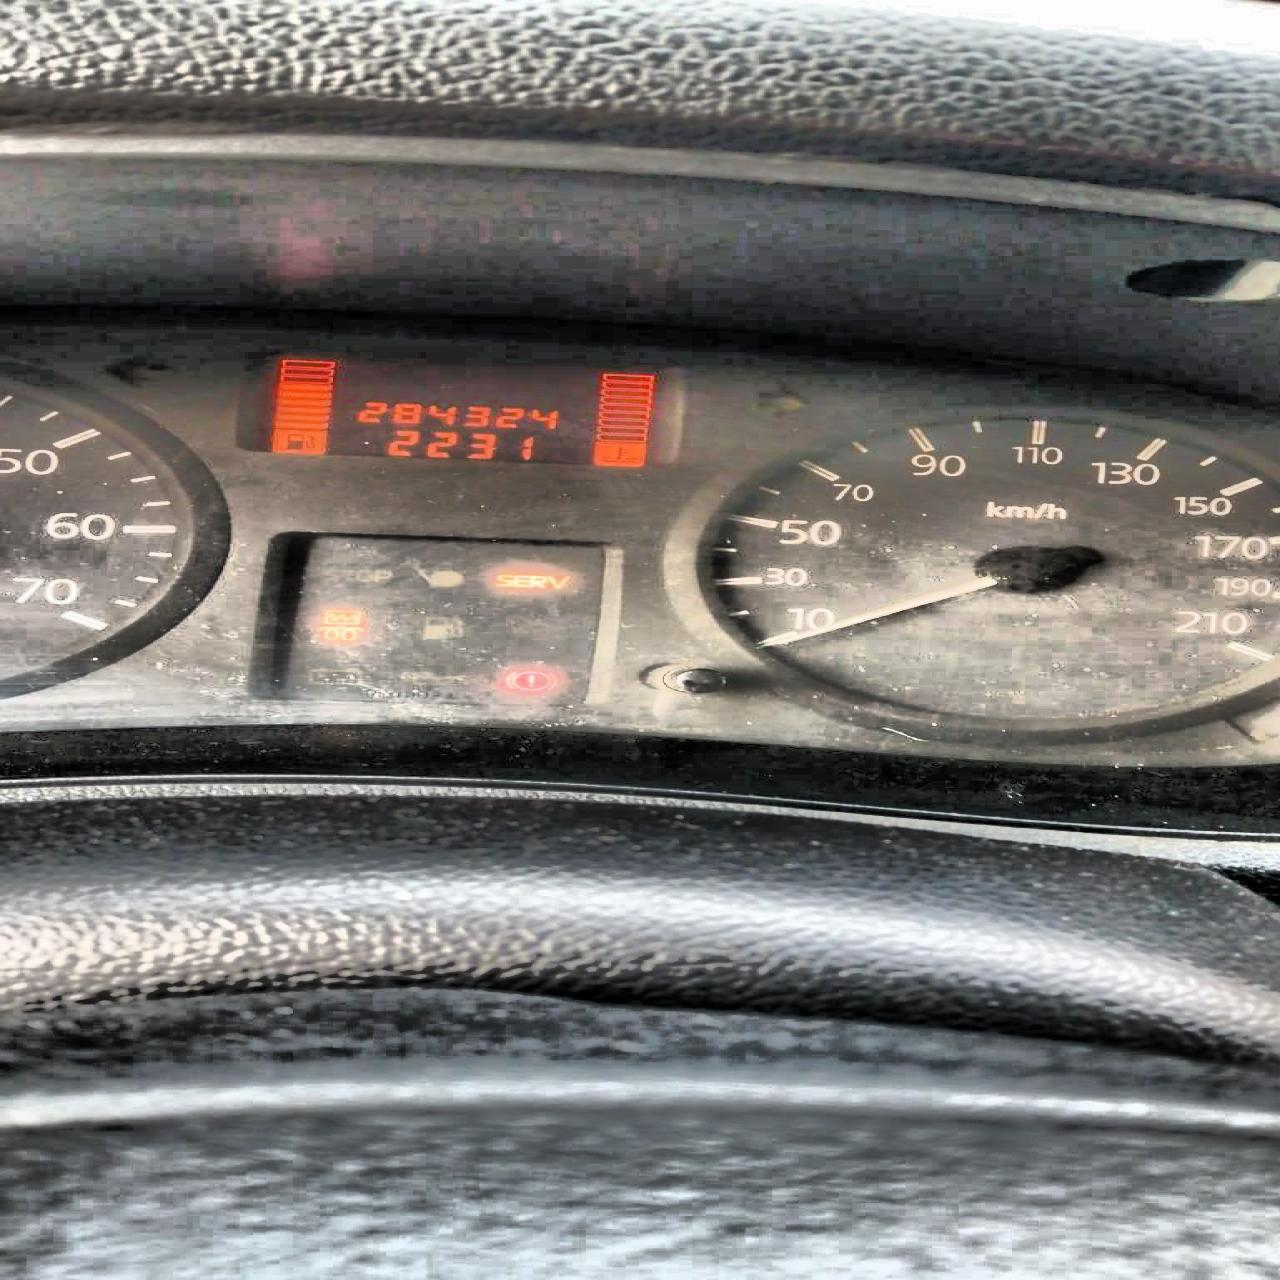1: (517, 435, 532, 459)
2: (423, 431, 456, 458), (387, 430, 417, 456), (492, 407, 523, 427), (356, 402, 386, 422)
3: (464, 433, 495, 458), (462, 406, 488, 427)
4: (530, 408, 558, 429), (427, 406, 455, 425)
8: (392, 403, 421, 423)
odometer: (230, 341, 694, 470)
